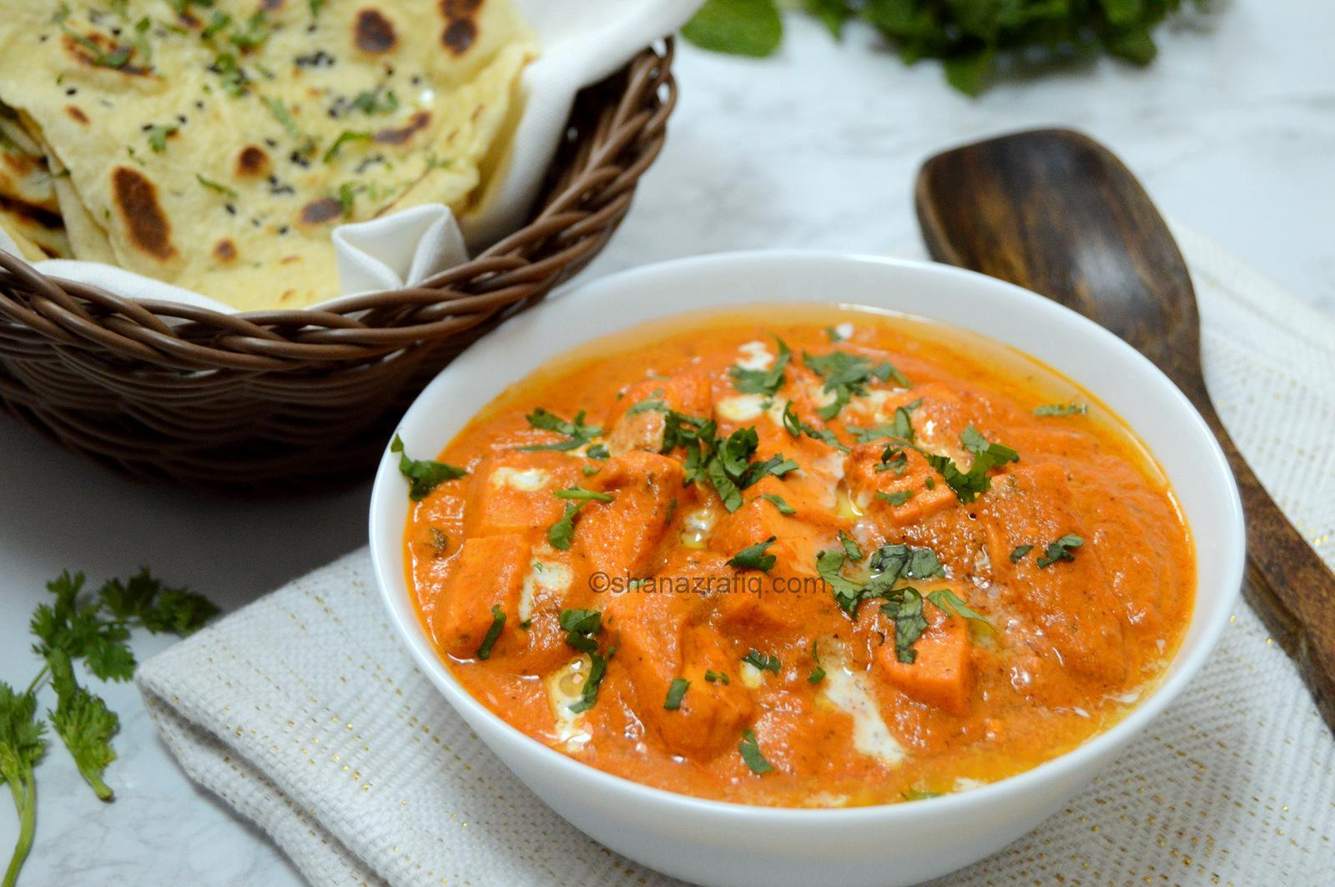paneer: (474, 382, 1092, 731)
roti: (20, 26, 509, 286)
